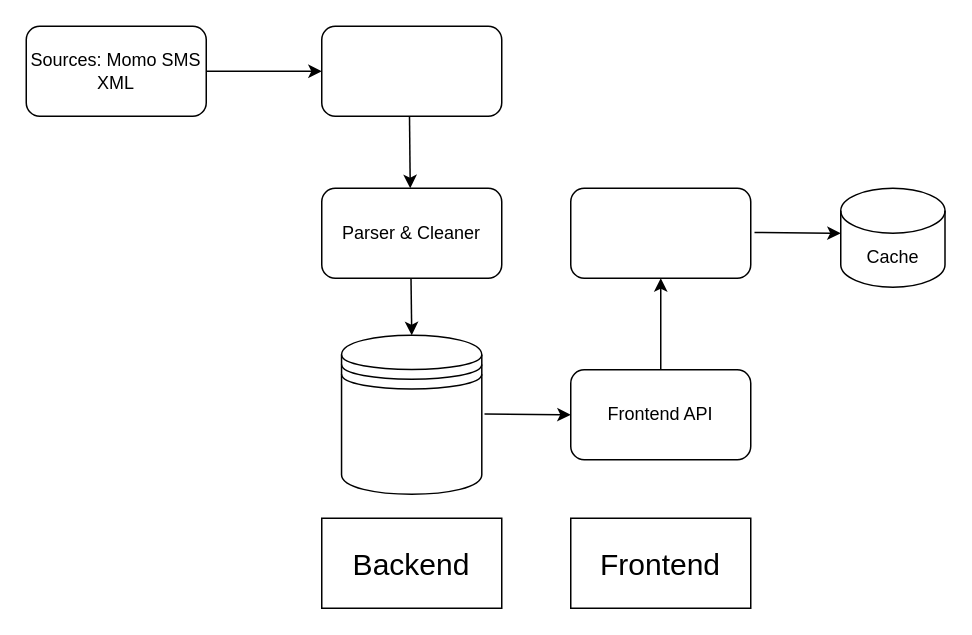
Some shapes in this 972 by 635 pixel diagram are drawn without their labels. Each missing label, with the box of its shape:
Backend API: (320, 25, 502, 116)
Relational Database: (340, 334, 482, 494)
Web Frontend: (569, 187, 751, 278)
